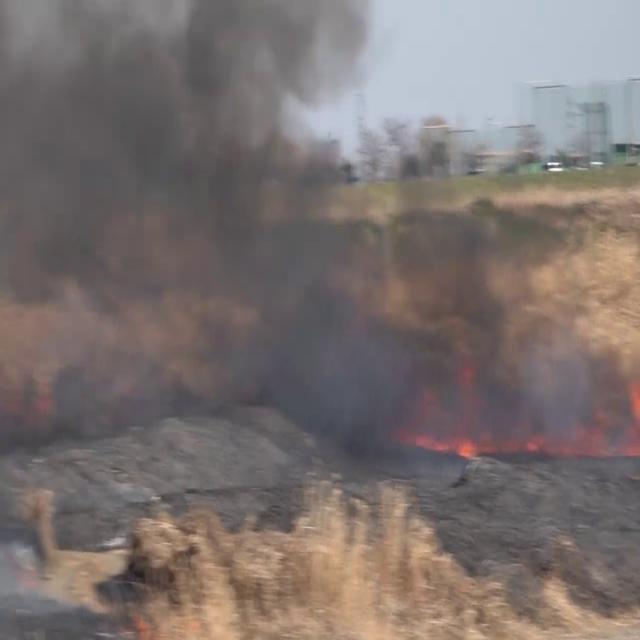Smoke: (1, 0, 630, 640)
